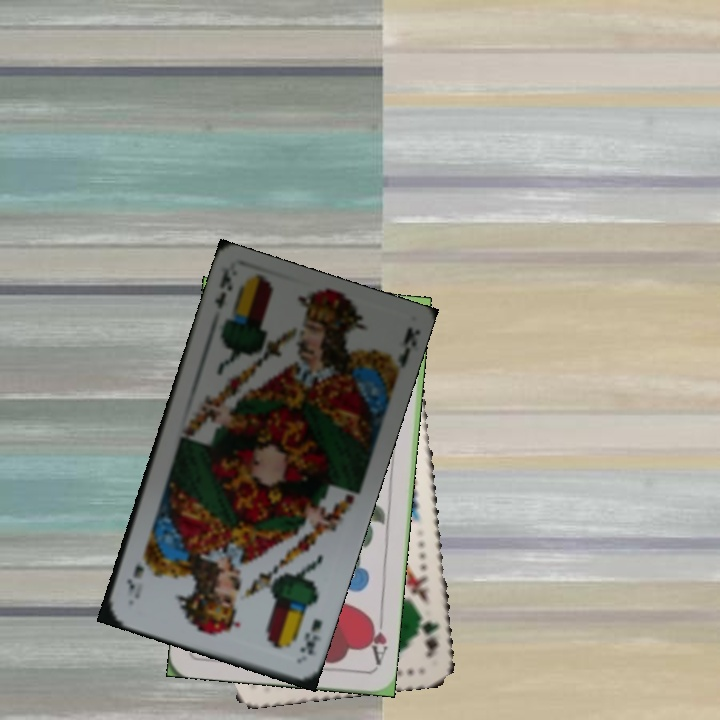EK: (296, 615, 325, 658), (210, 266, 235, 312)
GK: (416, 606, 442, 660)
HA: (363, 609, 390, 668)
